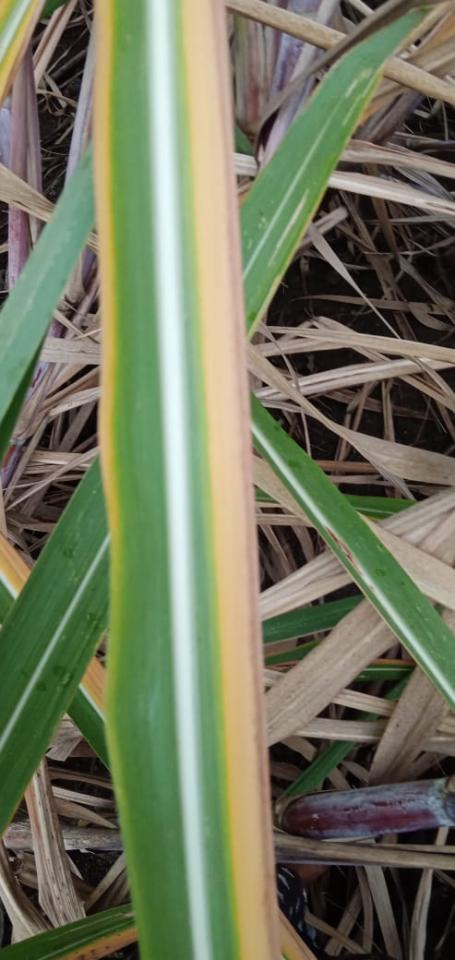Yellow: (182, 0, 278, 959), (94, 0, 116, 553), (61, 926, 140, 959), (0, 534, 28, 593), (82, 661, 105, 717)
